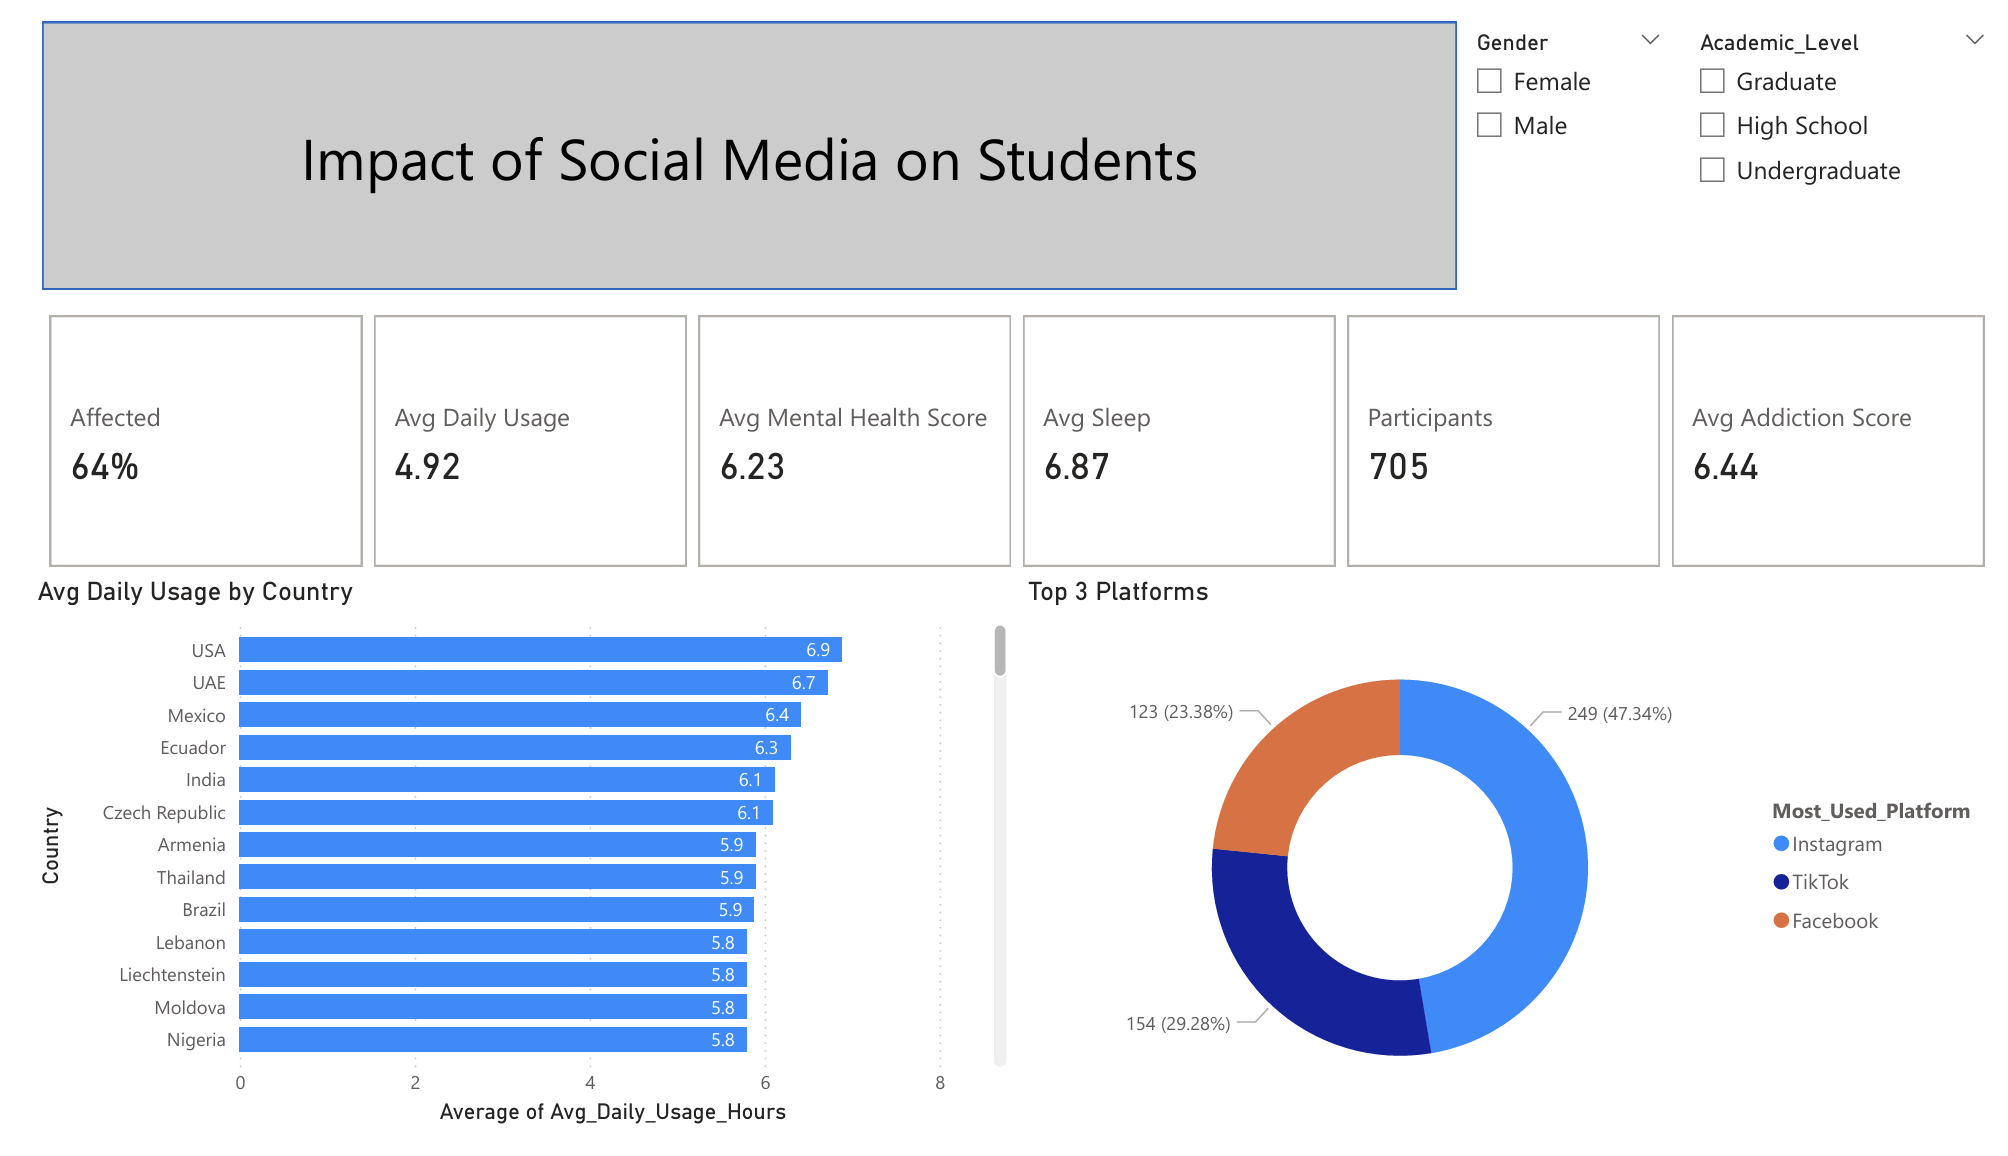

Layout of this report page (visuals, bound fields, positions):
{"tool":"powerbi","page":{"name":"Page 1","canvas":[1280,720],"ordinal":0},"visuals":[{"type":"cardVisual","fields":{"Data":["Students Social Media Addiction.Affected","Avg(Students Social Media Addiction.Avg_Daily_Usage_Hours)","Avg(Students Social Media Addiction.Mental_Health_Score)","Avg(Students Social Media Addiction.Sleep_Hours_Per_Night)","CountNonNull(Students Social Media Addiction.Student_ID)","Avg(Students Social Media Addiction.Addicted_Score)"]},"box":[8.3,186.4,1271.7,174],"z":0},{"type":"clusteredBarChart","title":"Avg Daily Usage by Country","fields":{"Category":["Students Social Media Addiction.Country"],"Y":["Avg(Students Social Media Addiction.Avg_Daily_Usage_Hours)"]},"box":[0,360.4,640,361.6],"z":1000},{"type":"donutChart","title":"Top 3 Platforms","fields":{"Category":["Students Social Media Addiction.Most_Used_Platform"],"Y":["CountNonNull(Students Social Media Addiction.Student_ID)"]},"box":[643.6,360.4,637.6,360.4],"z":2000},{"type":"slicer","fields":{"Values":["Students Social Media Addiction.Gender"]},"box":[927.9,0,145,174],"z":3000},{"type":"slicer","fields":{"Values":["Students Social Media Addiction.Academic_Level"]},"box":[1072.9,0,211.3,174],"z":4000},{"type":"shape","box":[8,0,920,174],"z":5000}]}

Visuals, with their boxes in screenshot pixels (x1, y1, x2, y2), scaled from the page's 1280x720 canvas onto the 2008x1156 screenshot:
cardVisual - Students Social Media Addiction.Affected x Avg(Students Social Media Addiction.Avg_Daily_Usage_Hours): 13/299/2007/579
"Avg Daily Usage by Country" clusteredBarChart: 0/579/1004/1155
"Top 3 Platforms" donutChart: 1010/579/2007/1155
slicer - Students Social Media Addiction.Gender: 1456/0/1683/279
slicer - Students Social Media Addiction.Academic_Level: 1683/0/2007/279
shape: 13/0/1456/279
